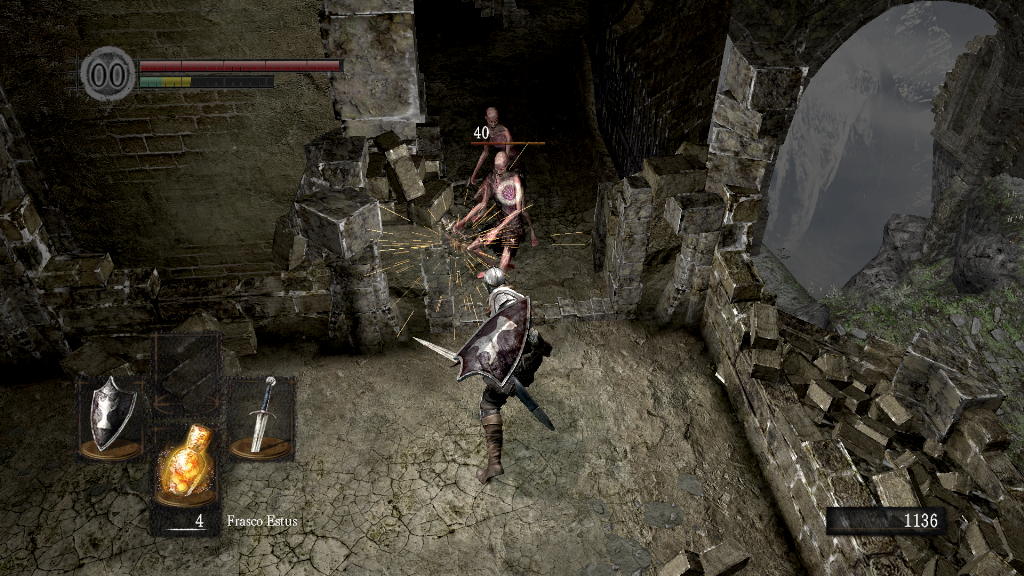health: (138, 58, 343, 71)
hollow: (448, 151, 541, 299), (448, 106, 529, 183)
humanity: (80, 45, 136, 102)
player: (412, 266, 558, 482)
souls: (825, 506, 945, 536)
stamina: (138, 74, 274, 88)
